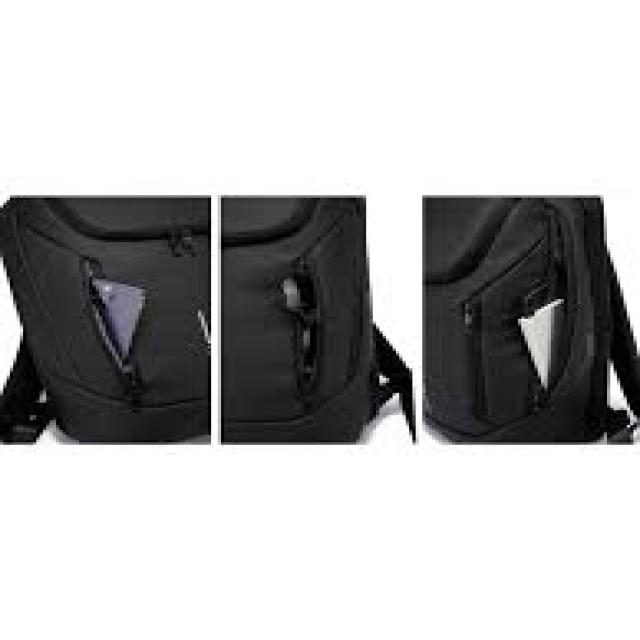backpack: (420, 194, 638, 443), (1, 194, 209, 443), (219, 197, 417, 444)
